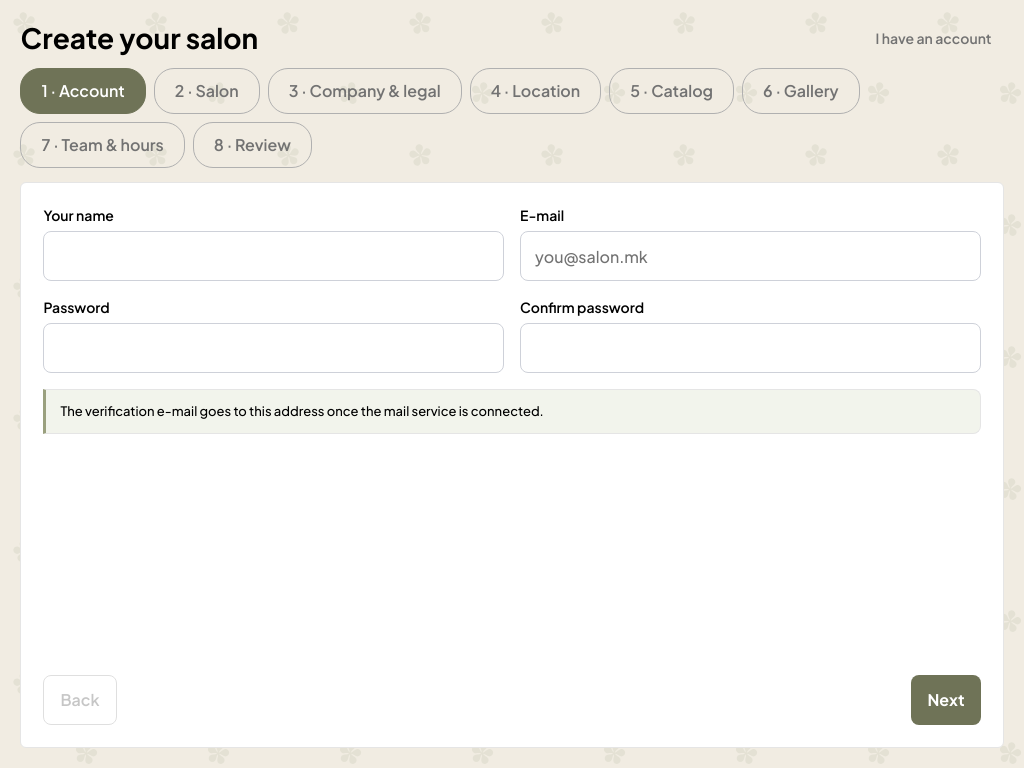
Test: the salon registration wizard › validates each step and refuses to advance with missing facts
Expected: the heading "Create your salon" is shown, [20,28,258,48]
Click the button "Next": (946, 700) [912,675,980,725]
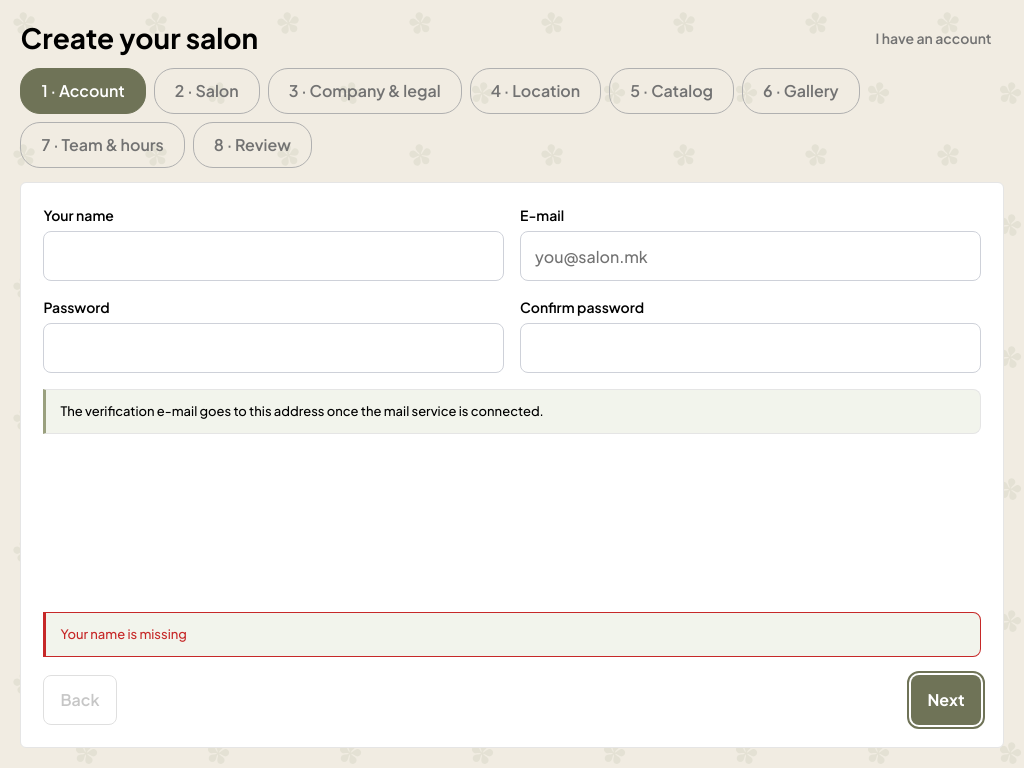
Expected: the text "Your name is missing" is shown, [44,612,980,657]
